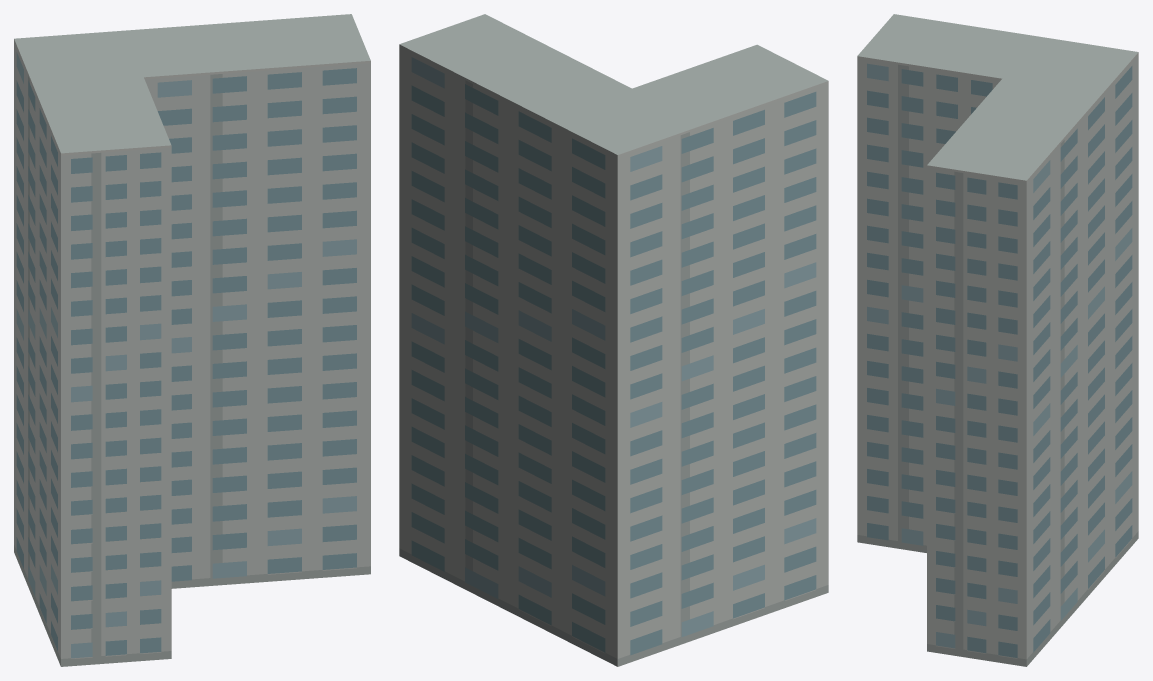
File: residential-0db4cbb4-0f52-447c-be6f-3160146503b7.glb
3 renders of one model, left to right at view 1: azimuth 30°, elevation 25°; view 2: azimuth 150°, elevation 25°; view 3: azimuth 270°, elevation 25°, orthographic. The views are drawn at different scales.
Parts seen in each view (by area): view 1: residential-0db4cbb4-0f52-447c-be6f-3160146503b7.tmp; view 2: residential-0db4cbb4-0f52-447c-be6f-3160146503b7.tmp; view 3: residential-0db4cbb4-0f52-447c-be6f-3160146503b7.tmp.
Boxes of the visible parts, x1,y1,x2,y2 form: residential-0db4cbb4-0f52-447c-be6f-3160146503b7.tmp: (14,14,370,666); residential-0db4cbb4-0f52-447c-be6f-3160146503b7.tmp: (399,14,828,666); residential-0db4cbb4-0f52-447c-be6f-3160146503b7.tmp: (857,14,1138,666).
Size of the model in its own units: 40.39 by 54.9 by 28.82.
